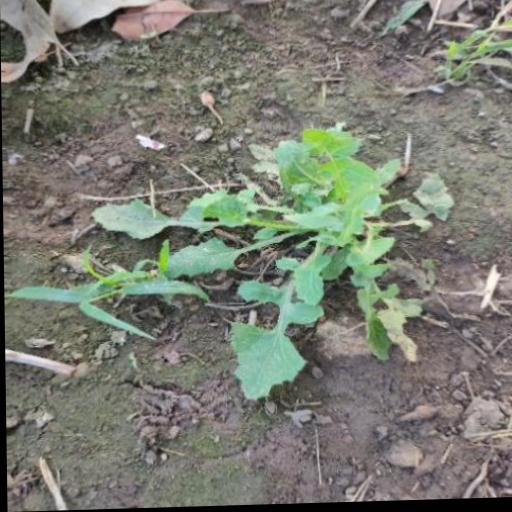weed: (42, 114, 452, 392)
